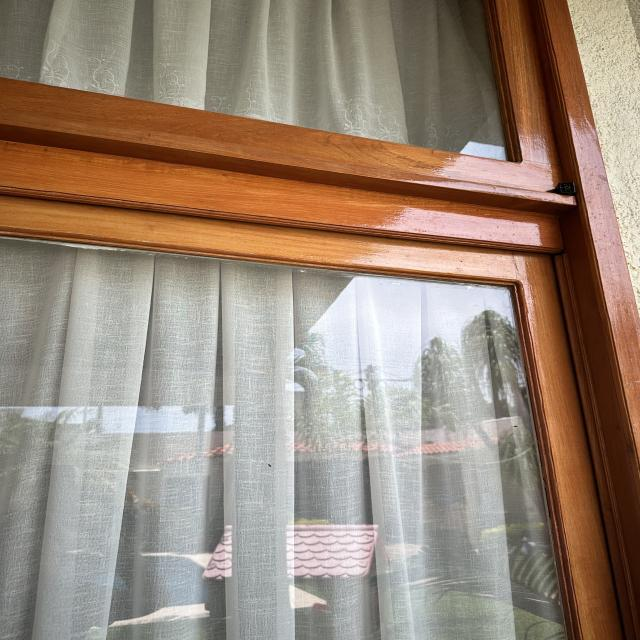hidden camera: (564, 185, 570, 190)
